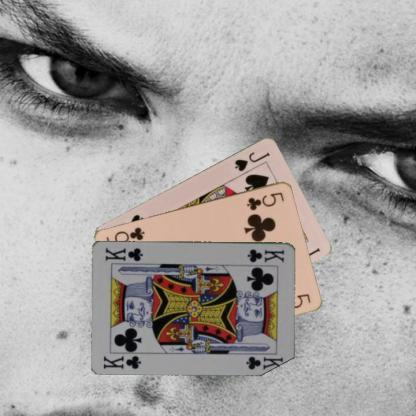5c: (244, 188, 286, 212)
Js: (232, 149, 272, 173)
Kc: (101, 352, 142, 370), (245, 246, 285, 264)
